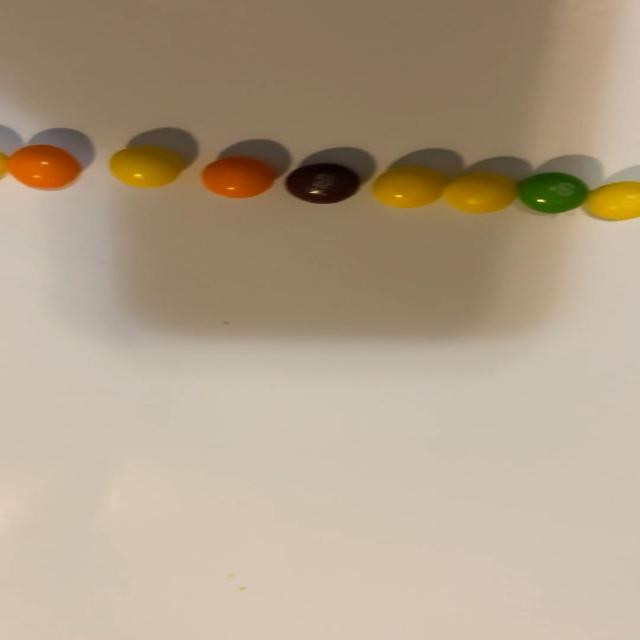smartie: (5, 144, 79, 188), (372, 166, 447, 208), (200, 156, 274, 198), (108, 145, 182, 187), (443, 172, 517, 213), (286, 163, 359, 203), (519, 172, 588, 212), (587, 181, 640, 220)
